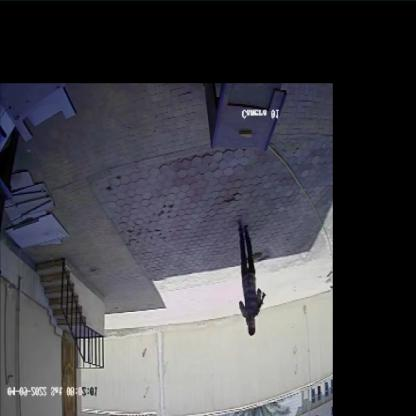handgun: (254, 288, 266, 325)
